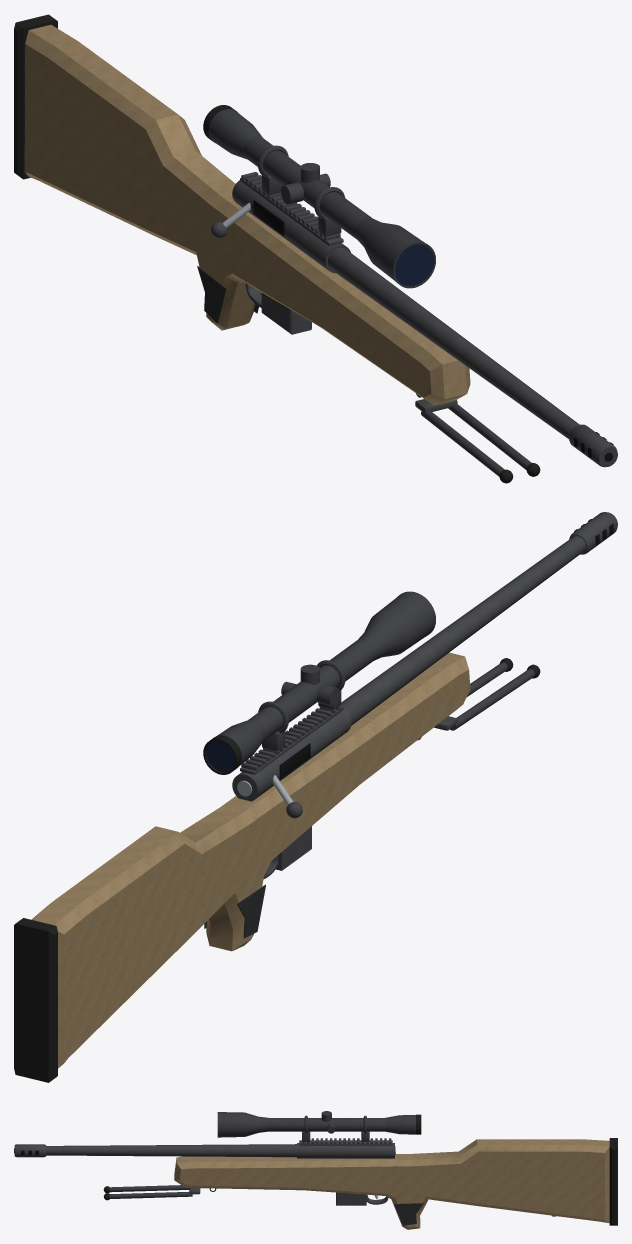
The model's file is sniper-rifle.glb.
The picture shows the model from 3 angles, top to bottom: view 1: azimuth 30°, elevation 25°; view 2: azimuth 150°, elevation 25°; view 3: azimuth 270°, elevation 25°; orthographic projection. The views are drawn at different scales.
Parts seen in each view (by area): view 1: Rifle, Scope, Bipod; view 2: Rifle, Scope, Bipod; view 3: Rifle, Scope, Bipod.
Part boxes in pixels (bbox=[...]): Rifle: bbox=[14, 14, 617, 467]; Scope: bbox=[203, 105, 435, 288]; Bipod: bbox=[415, 399, 540, 483]; Rifle: bbox=[14, 512, 617, 1082]; Scope: bbox=[203, 591, 435, 774]; Bipod: bbox=[434, 658, 540, 730]; Rifle: bbox=[14, 1138, 617, 1229]; Scope: bbox=[217, 1111, 421, 1141]; Bipod: bbox=[103, 1185, 200, 1200].
Bounding box in the file's own units: 0.088 × 0.2765 × 1.33.
8 materials, 4 textured.
